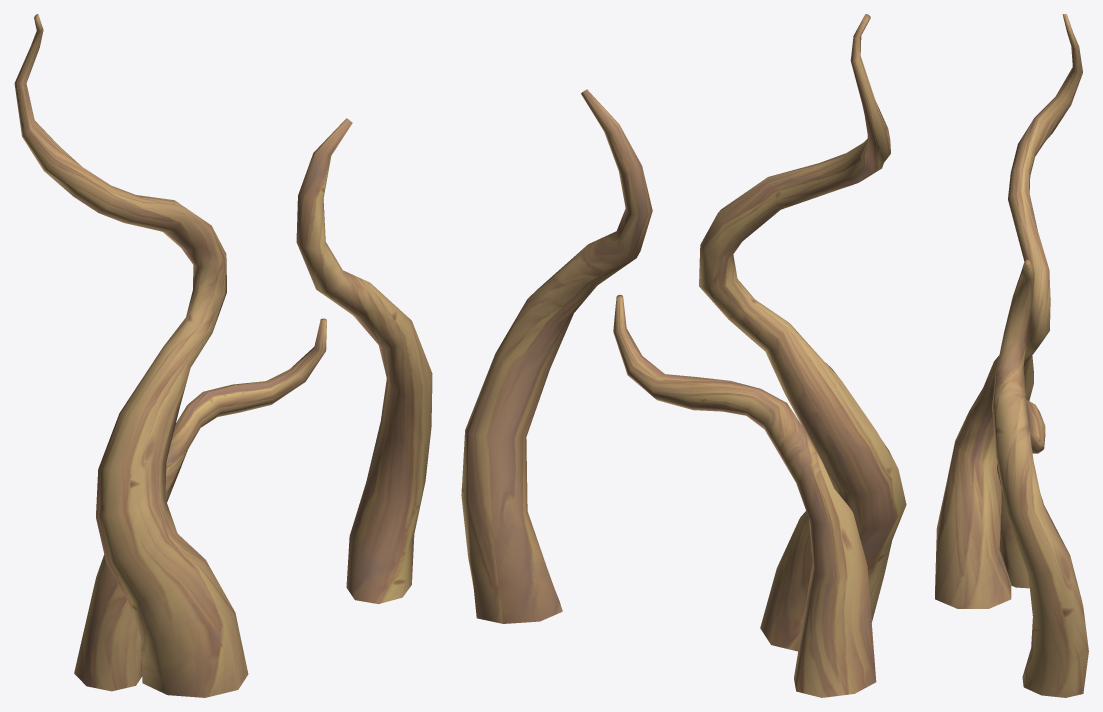
Rendered from SM_ENV_treeroot_ancient_05.fbx.
3 renders of one model, left to right at view 1: azimuth 30°, elevation 25°; view 2: azimuth 150°, elevation 25°; view 3: azimuth 270°, elevation 25°, orthographic. The views are drawn at different scales.
Parts seen in each view (by area): view 1: SM_ENV_treeroot_ancient_05_LOD0; view 2: SM_ENV_treeroot_ancient_05_LOD0; view 3: SM_ENV_treeroot_ancient_05_LOD0.
Boxes of the visible parts, x1,y1,x2,y2 form: SM_ENV_treeroot_ancient_05_LOD0: (14,14,432,697); SM_ENV_treeroot_ancient_05_LOD0: (461,14,906,697); SM_ENV_treeroot_ancient_05_LOD0: (935,14,1088,697).
Bounding box in the file's own units: 125 × 195 × 50.21.
